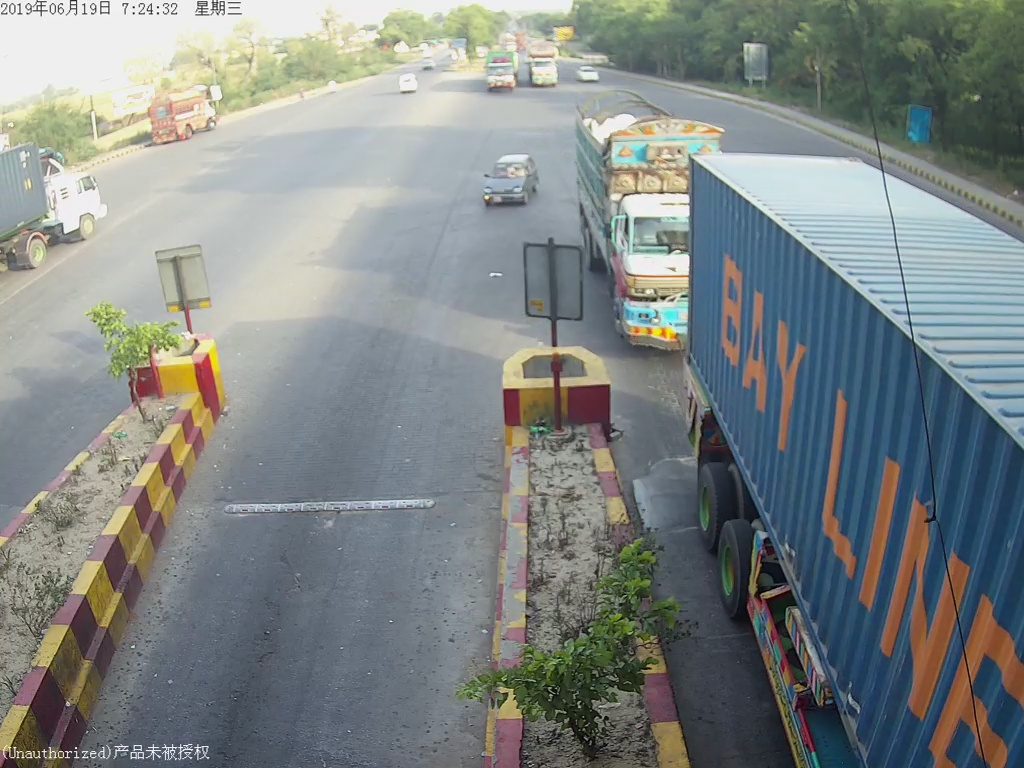Cat-1: (479, 148, 540, 217)
Cat-4: (583, 98, 681, 359)
